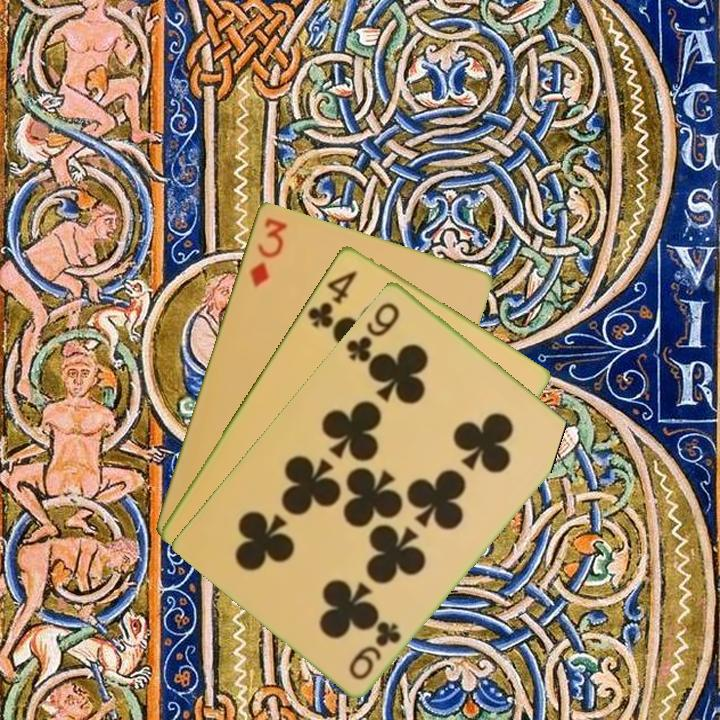3d: (245, 213, 290, 290)
4c: (303, 266, 360, 330)
9c: (342, 298, 403, 365), (345, 617, 404, 683)
